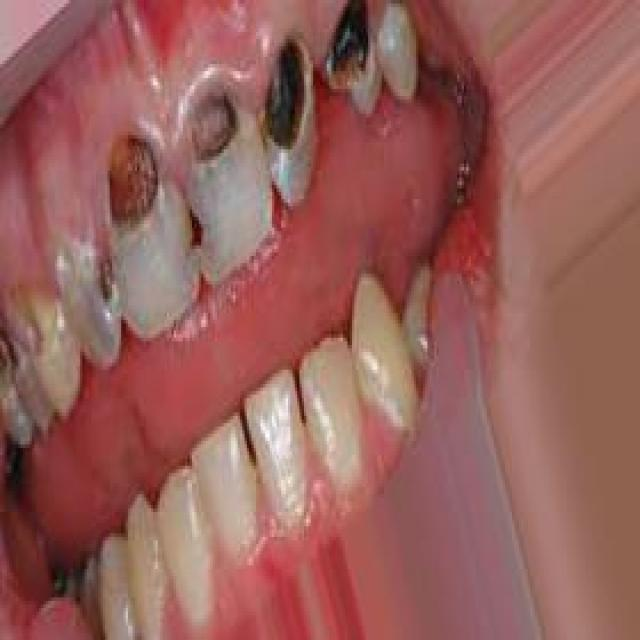caries: (257, 31, 320, 190), (179, 78, 255, 202), (96, 123, 168, 241), (320, 0, 381, 117), (82, 243, 132, 328), (0, 295, 39, 391)
